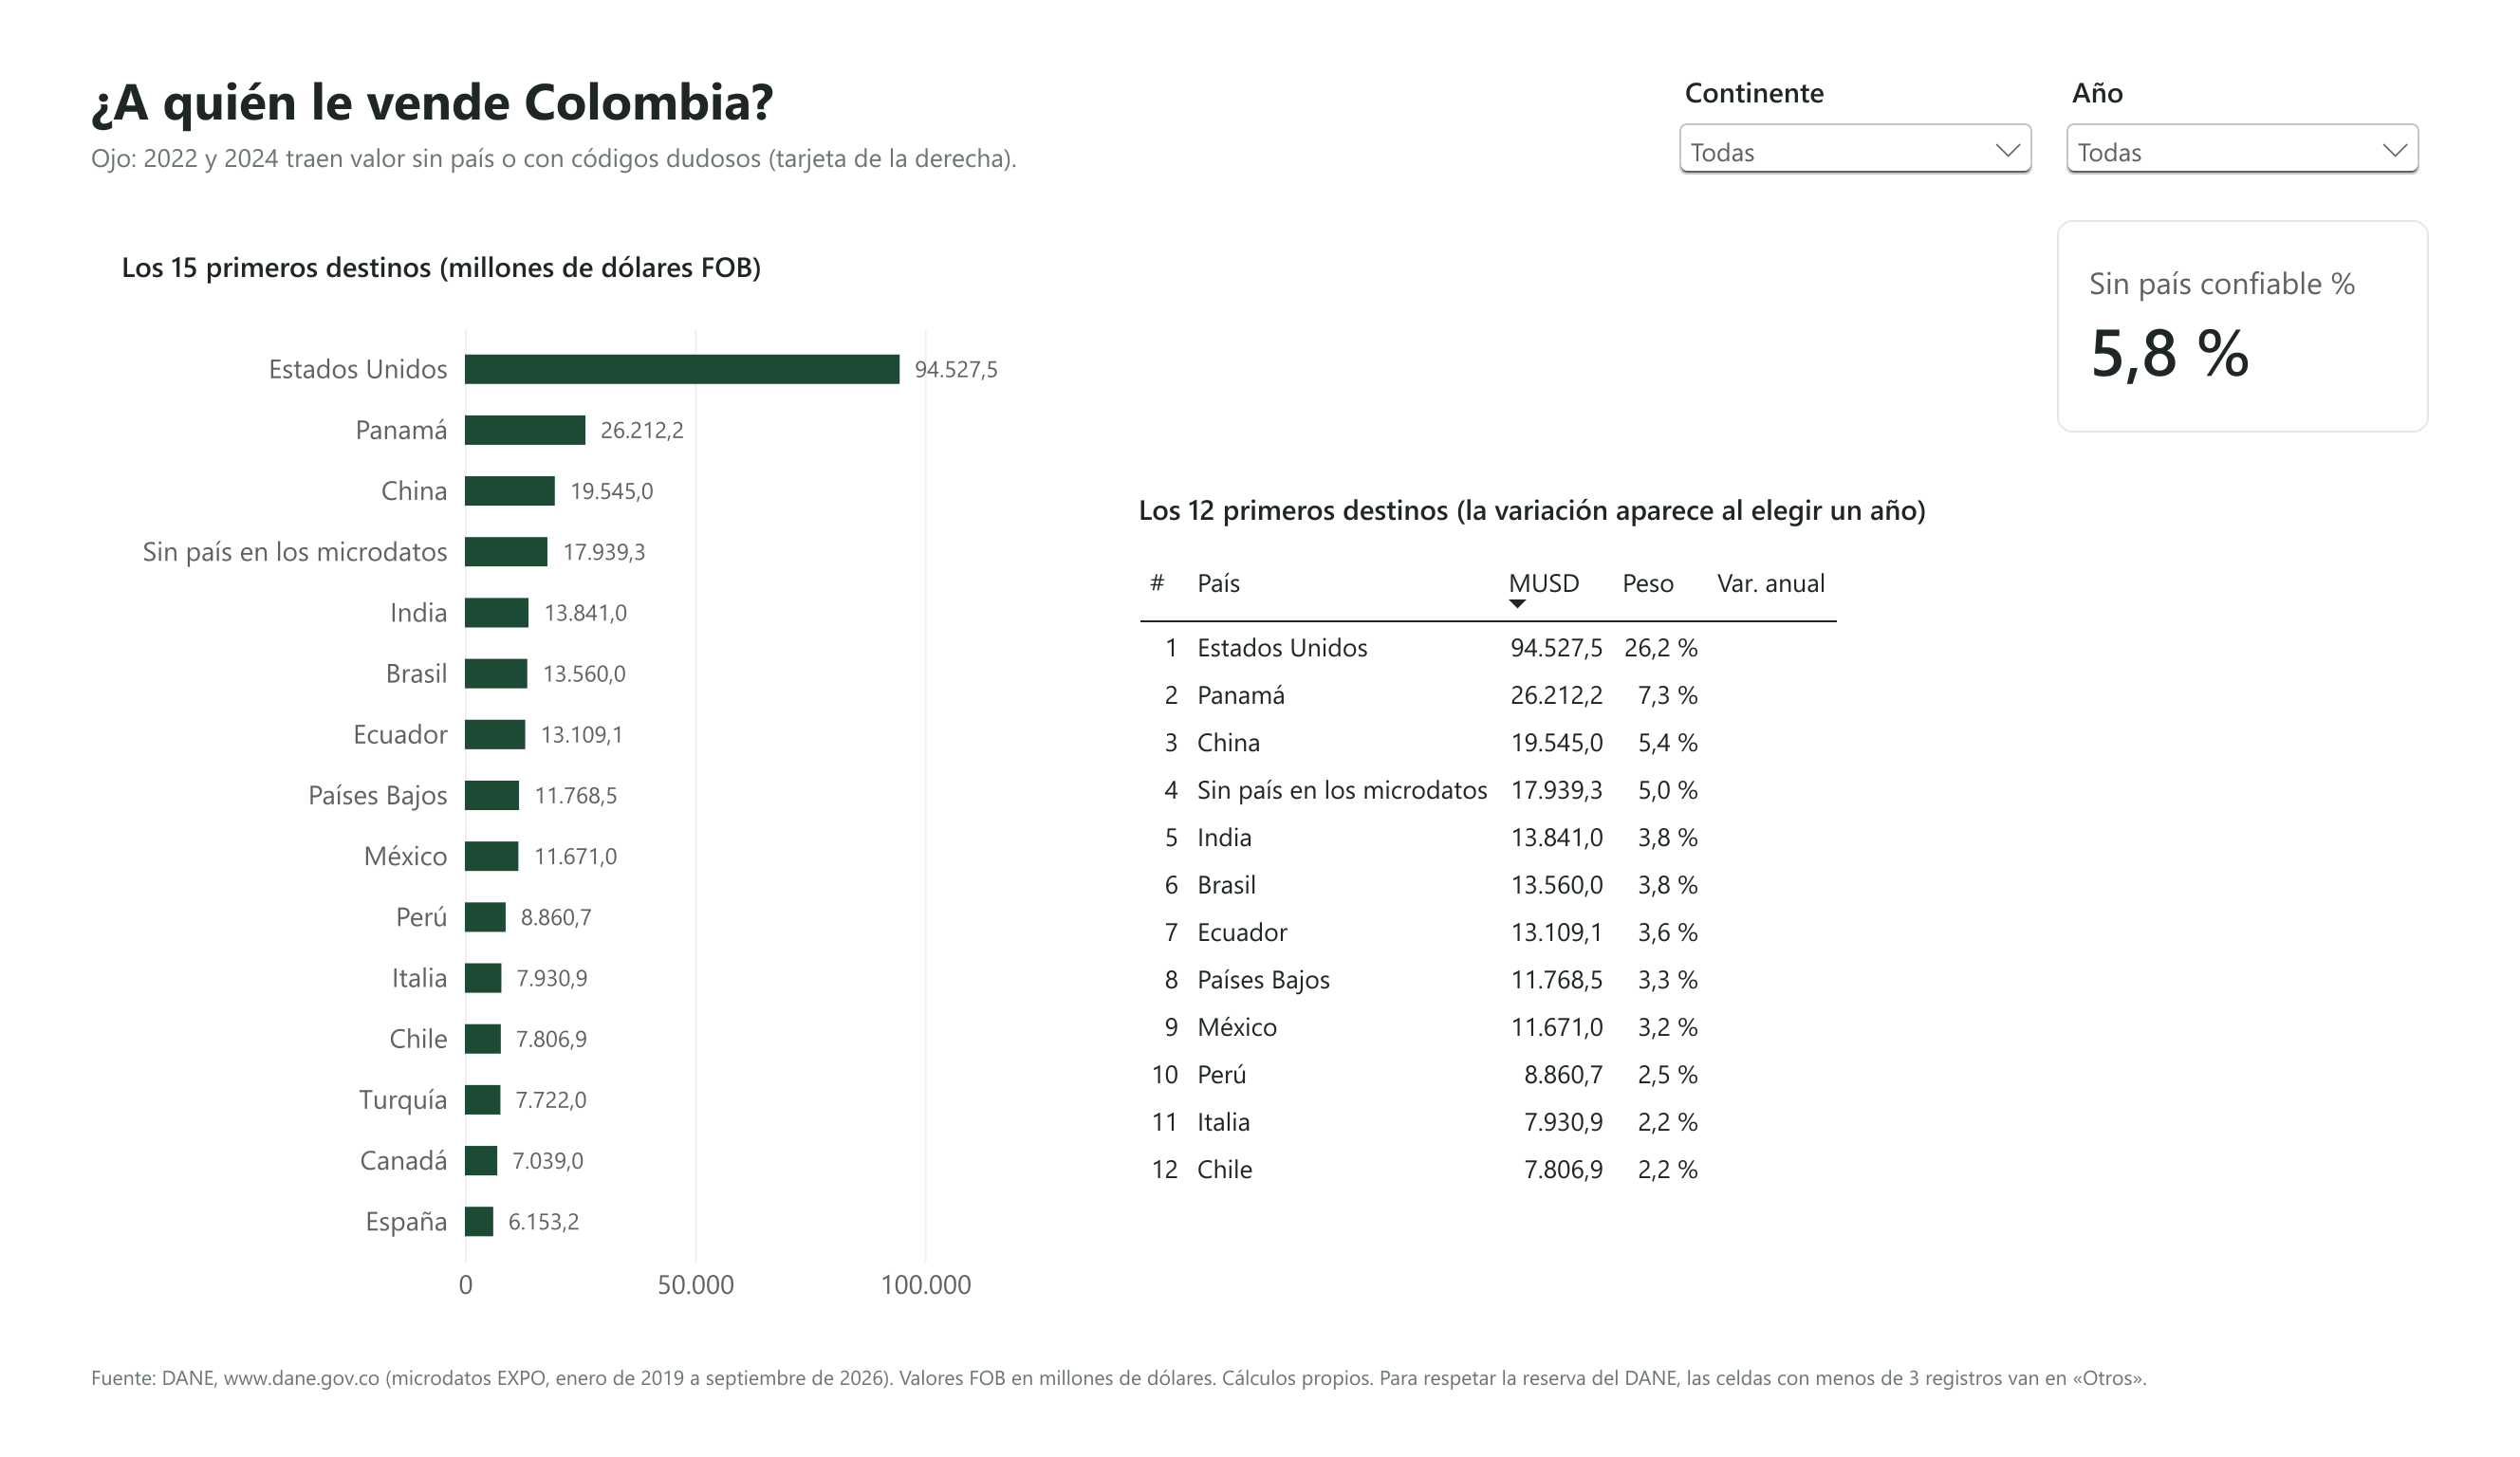

What the dashboard file says about the page in this screenshot:
{"tool":"powerbi","page":{"name":"Destinos","canvas":[1280,720],"ordinal":1},"visuals":[{"type":"textbox","box":[24,10,800,44],"z":0},{"type":"textbox","box":[24,50,800,30],"z":1},{"type":"slicer","fields":{"Values":["Calendario.Año"]},"box":[1060,14,196,64],"z":2},{"type":"slicer","fields":{"Values":["dim_pais.Continente"]},"box":[856,14,196,64],"z":3},{"type":"cardVisual","fields":{"Data":["Medidas.Sin país confiable %"]},"box":[1060,92,196,112],"z":4},{"type":"clusteredBarChart","title":"Los 15 primeros destinos (millones de dólares FOB)","fields":{"Category":["dim_pais.País"],"Y":["Medidas.Exportaciones por destino (MUSD) · 15 primeros destinos"]},"box":[24,92,520,592],"z":5},{"type":"tableEx","title":"Los 12 primeros destinos (la variación aparece al elegir un año)","fields":{"Values":["Medidas.Puesto del destino · 12 primeros destinos","dim_pais.País","Medidas.Exportaciones por destino (MUSD) · 12 primeros destinos","Medidas.Participación por destino % · 12 primeros destinos","Medidas.Variación anual por destino % · 12 primeros destinos"]},"box":[560,220,696,464],"z":6},{"type":"textbox","box":[24,692,1232,24],"z":90}]}

Visuals, with their boxes in screenshot pixels (x1, y1, x2, y2), scaled from the page's 1280x720 canvas onto the 2520x1457 screenshot:
textbox: locate(47, 20, 1622, 109)
textbox: locate(47, 101, 1622, 162)
slicer - Calendario.Año: locate(2087, 28, 2473, 157)
slicer - dim_pais.Continente: locate(1685, 28, 2071, 157)
cardVisual - Medidas.Sin país confiable %: locate(2087, 186, 2473, 413)
"Los 15 primeros destinos (millones de dólares FOB)" clusteredBarChart: locate(47, 186, 1071, 1384)
"Los 12 primeros destinos (la variación aparece al elegir un año)" tableEx: locate(1102, 445, 2473, 1384)
textbox: locate(47, 1400, 2473, 1448)
